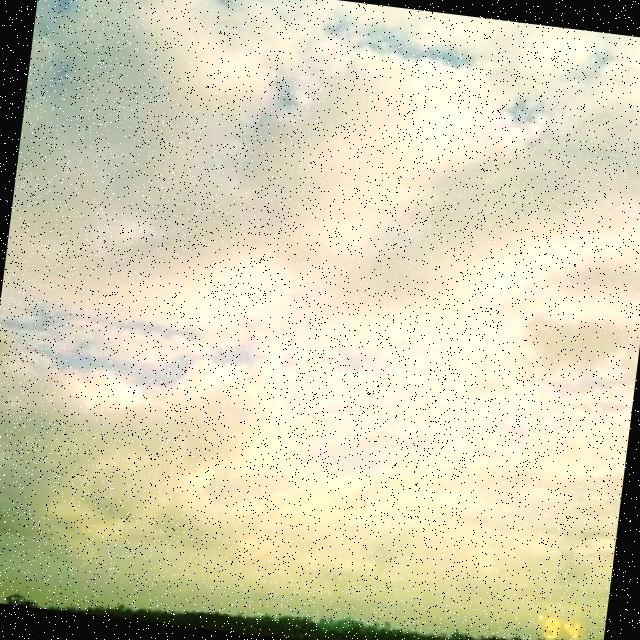Sc: (1, 1, 640, 508)
